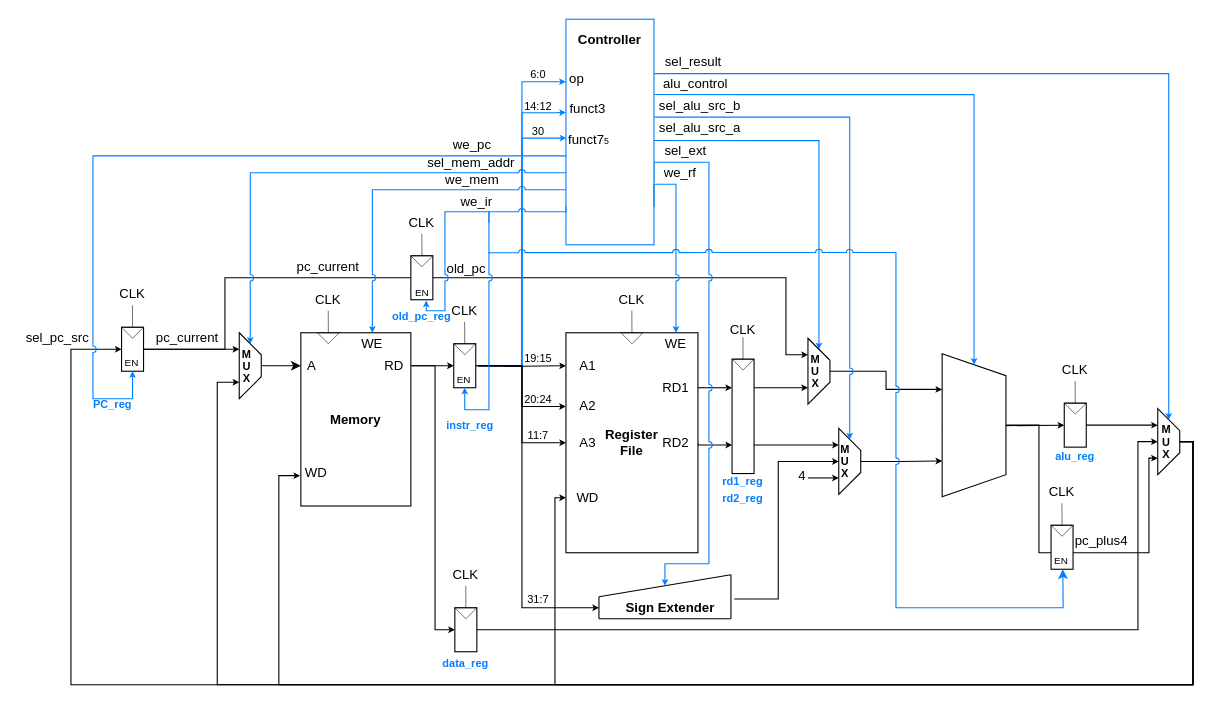
Some shapes in this 1218 by 710 pixel diagram are drawn without their labels. The shapes that lost their labels are listed below. From the top down, each one's centre as x and y in pixels, then its label:
At point (973, 425): "ALU".
At point (1008, 563): "pc_plus4_reg".
